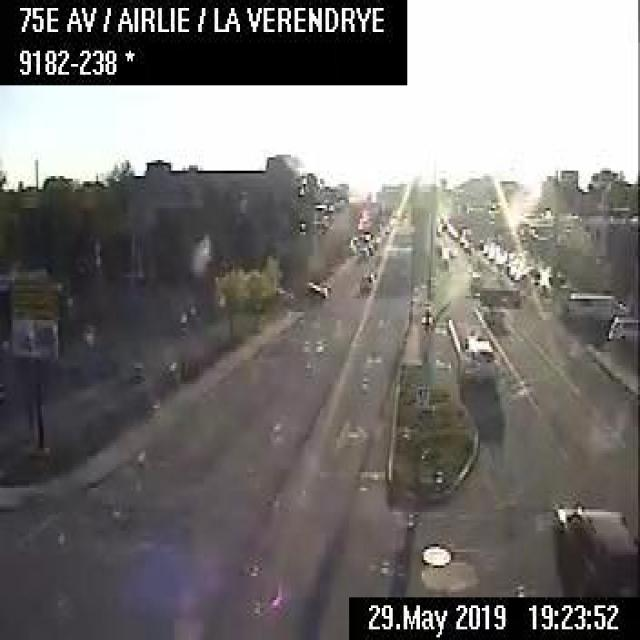vehicle: (547, 498, 638, 594), (566, 291, 624, 318), (460, 331, 496, 368), (607, 312, 637, 340), (300, 278, 327, 302), (357, 272, 376, 292)
